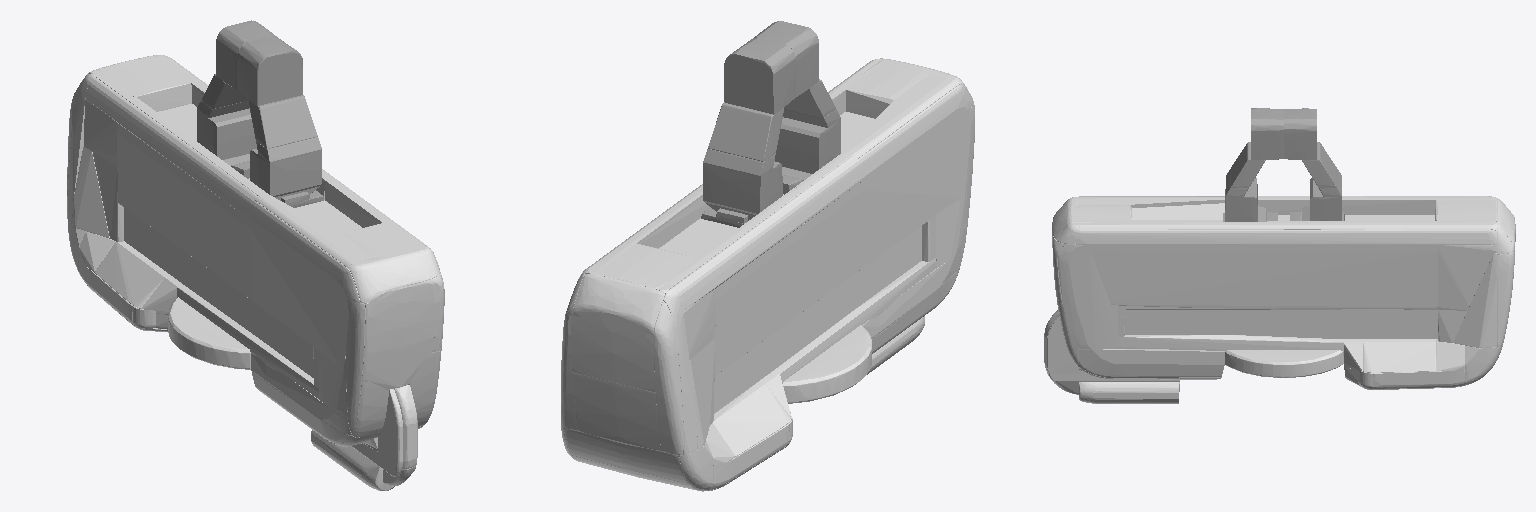
robot.urdf — panda:
<?xml version="1.0" ?>
<!-- source: https://github.com/robotlearn/pyrobolearn/blob/master/pyrobolearn/robots/urdfs/franka/franka.urdf -->
<!-- =================================================================================== -->
<!-- |    This document was autogenerated by xacro from panda_arm_hand.urdf.xacro      | -->
<!-- |    EDITING THIS FILE BY HAND IS NOT RECOMMENDED                                 | -->
<!-- =================================================================================== -->
<robot name="panda" xmlns:xacro="http://www.ros.org/wiki/xacro">
  <material name="black">
    <color rgba="0.0 0.0 0.0 1"/>
  </material>
  <material name="white">
    <color rgba="0.9 0.9 0.9 1"/>
  </material>
  <material name="dark_gray">
    <color rgba="0.3 0.3 0.3 1"/>
  </material>
  <material name="gray">
    <color rgba="0.5 0.5 0.5 1"/>
  </material>
  <material name="light_gray">
    <color rgba="0.7 0.7 0.7 1"/>
  </material>
  <material name="pure_red">
    <color rgba="1.0 0.0 0.0 1"/>
  </material>
  <material name="red">
    <color rgba="0.5 0.1 0.2 1"/>
  </material>
  <material name="pure_green">
    <color rgba="0.0 1.0 0.0 1"/>
  </material>
  <material name="pure_blue">
    <color rgba="0.0 0.0 1.0 1"/>
  </material>
  <material name="blue">
    <color rgba="0.0 0.2 0.3 1"/>
  </material>

  <link name="panda_hand">
    <inertial> <!-- these inertia are calculated based on the visual meshes using Meshlab, and using a density of 1kg/m^3 (http://gazebosim.org/tutorials?tut=inertia) -->
      <mass value="1"/> <!-- volume = 0.000488 -->
      <origin xyz="-0.000007 0.001524 0.027591"/>
      <inertia ixx="0.00409836" ixy="0.000000" ixz="0.000000" iyy="0.00061475" iyz="0.000000" izz="0.00409836"/> <!-- divided by the volume, just need to be multiplied by the mass -->
    </inertial>
    <visual>
      <material name="white"/>
      <geometry>
        <mesh filename="meshes/hand_vhacd.obj"/>
      </geometry>
    </visual>
    <collision>
      <geometry>
        <mesh filename="meshes/hand_vhacd.obj"/>
      </geometry>
    </collision>
  </link>
  <link name="panda_leftfinger">
    <inertial> <!-- these inertia are calculated based on the visual meshes using Meshlab, and using a density of 1kg/m^3 (http://gazebosim.org/tutorials?tut=inertia) -->
      <mass value="1"/>
      <origin xyz="0.000002 0.014564 0.022794"/>
      <inertia ixx="0.00030727" ixy="0.000000" ixz="0.000000" iyy="0.00003018" iyz="0.00005455" izz="0.00007091"/> <!-- divided by the volume, just need to be multiplied by the mass -->
    </inertial>
    <visual>
      <material name="light_gray"/>
      <geometry>
        <mesh filename="meshes/finger_vhacd.obj"/>
      </geometry>
    </visual>
    <collision>
      <geometry>
        <mesh filename="meshes/finger_vhacd.obj"/>
      </geometry>
    </collision>
  </link>
  <link name="panda_rightfinger">
    <inertial> <!-- these inertia are calculated based on the visual meshes using Meshlab, and using a density of 1kg/m^3 (http://gazebosim.org/tutorials?tut=inertia) -->
      <mass value="1"/> <!-- volume = 0.000011 -->
      <origin xyz="0.000002 0.014564 0.022794"/>
      <inertia ixx="0.00030727" ixy="0.000000" ixz="0.000000" iyy="0.00003018" iyz="0.00005455" izz="0.00007091"/> <!-- divided by the volume, just need to be multiplied by the mass -->
    </inertial>
    <visual>
      <material name="light_gray"/>
      <origin rpy="0 0 3.14159265359" xyz="0 0 0"/>
      <geometry>
        <mesh filename="meshes/finger_vhacd.obj"/>
      </geometry>
    </visual>
    <collision>
      <origin rpy="0 0 3.14159265359" xyz="0 0 0"/>
      <geometry>
        <mesh filename="meshes/finger_vhacd.obj"/>
      </geometry>
    </collision>
  </link>
  <joint name="panda_finger_joint1" type="prismatic">
    <parent link="panda_hand"/>
    <child link="panda_leftfinger"/>
    <origin rpy="0 0 0" xyz="0 0 0.0584"/>
    <axis xyz="0 1 0"/>
    <limit effort="20" lower="0.0" upper="0.04" velocity="0.2"/>
  </joint>
  <joint name="panda_finger_joint2" type="prismatic">
    <parent link="panda_hand"/>
    <child link="panda_rightfinger"/>
    <origin rpy="0 0 0" xyz="0 0 0.0584"/>
    <axis xyz="0 -1 0"/>
    <limit effort="20" lower="0.0" upper="0.04" velocity="0.2"/>
    <mimic joint="panda_finger_joint1"/>
  </joint>
</robot>

--- What the picture shows (computed from the rendered views, not written in the file) ---
3 views of the same robot in one strip: view 1: azimuth 30°, elevation 25°; view 2: azimuth 150°, elevation 25°; view 3: azimuth 270°, elevation 25° (orthographic).
Model panda with 3 links and 2 joints (2 prismatic), rooted at panda_hand, posed all joints at 0.
Links seen in each view (by area): view 1: panda_hand, panda_rightfinger, panda_leftfinger; view 2: panda_hand, panda_leftfinger, panda_rightfinger; view 3: panda_hand, panda_rightfinger, panda_leftfinger.
Boxes of the visible links, x1,y1,x2,y2 form: panda_hand: (67, 55, 444, 490); panda_rightfinger: (237, 36, 323, 207); panda_leftfinger: (197, 20, 277, 178); panda_hand: (561, 58, 974, 491); panda_leftfinger: (701, 38, 795, 227); panda_rightfinger: (754, 21, 840, 194); panda_hand: (1044, 196, 1515, 403); panda_rightfinger: (1223, 108, 1283, 221); panda_leftfinger: (1284, 108, 1344, 220).
Size in the robot's own frame: 0.0632 by 0.2047 by 0.1384 metres.
Meshes: 2 distinct files referenced, 3 mesh visuals loaded (2 OBJ).